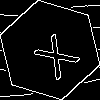X: (25, 25, 81, 81)
